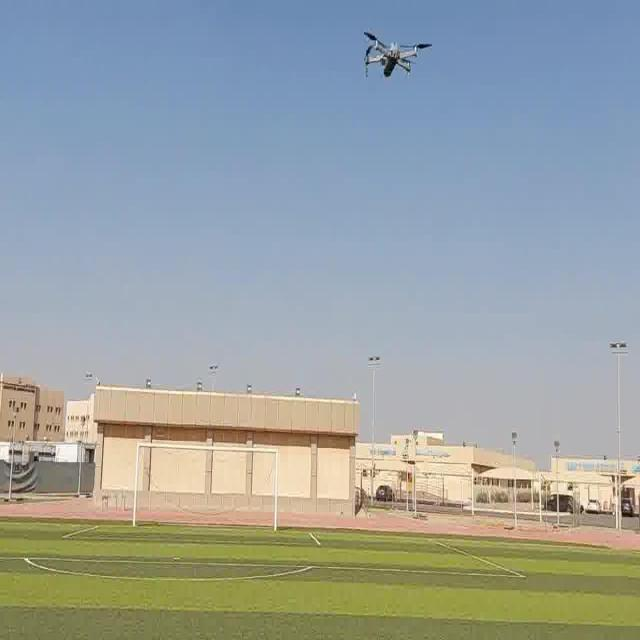drone: (355, 27, 437, 87)
